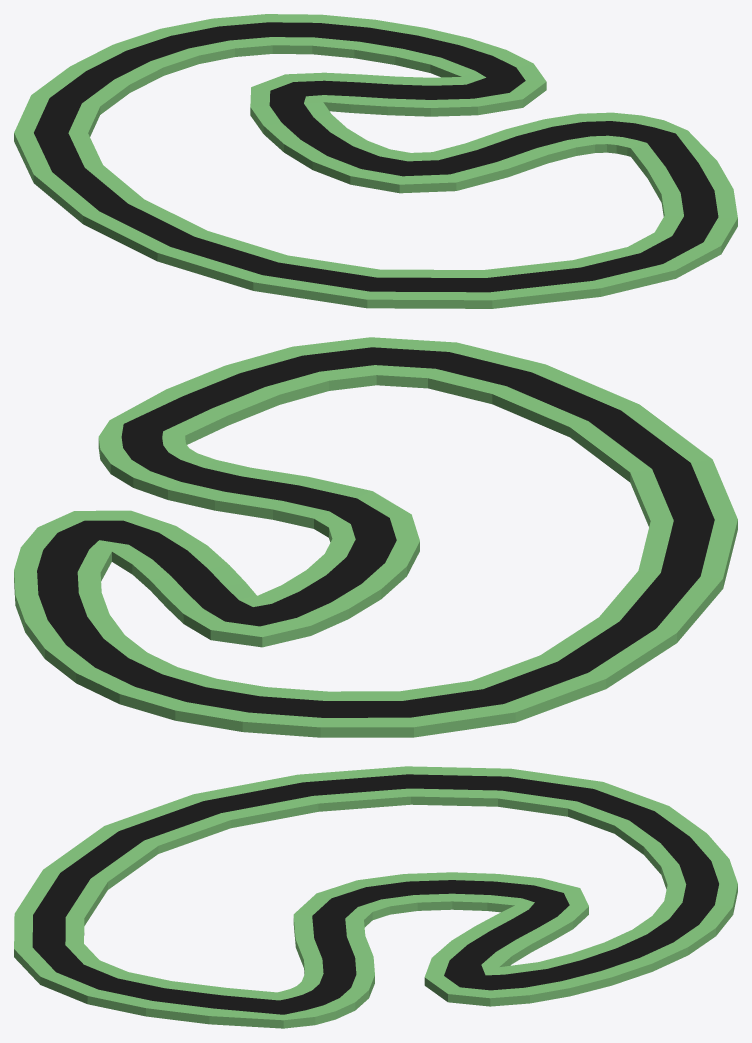
File: Track1.fbx
The picture shows the model from 3 angles, top to bottom: view 1: azimuth 30°, elevation 25°; view 2: azimuth 150°, elevation 25°; view 3: azimuth 270°, elevation 25°; orthographic projection. The views are drawn at different scales.
Visible parts, largest first — view 1: Line001; view 2: Line001; view 3: Line001.
Part boxes in pixels (box(x1,y1,x2,y2)): Line001: box(14, 14, 737, 308); Line001: box(14, 337, 737, 737); Line001: box(14, 766, 737, 1028).
Size of the model in its own units: 648 by 781 by 10.53.
